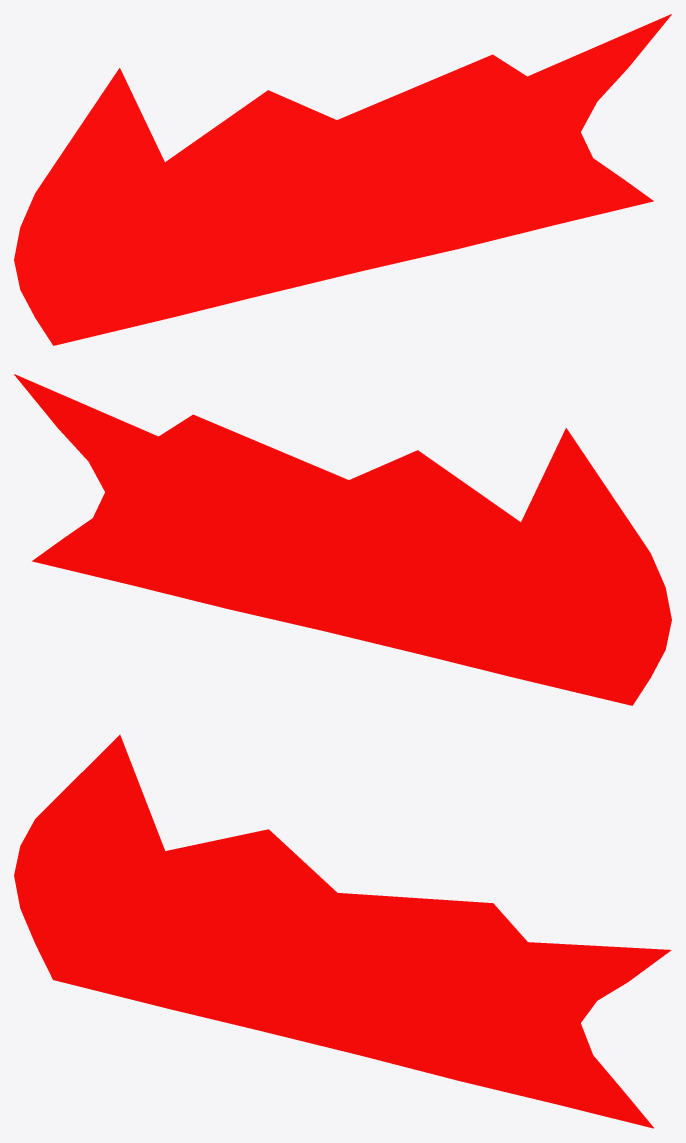
File: bldwave.fbx
3 renders of one model, top to bottom at view 1: azimuth 30°, elevation 25°; view 2: azimuth 150°, elevation 25°; view 3: azimuth 330°, elevation 25°, orthographic.
Visible parts, largest first — view 1: Plane; view 2: Plane; view 3: Plane.
Boxes of the visible parts, box(x1,y1,x2,y2) form: Plane: box(14, 14, 671, 345); Plane: box(14, 374, 671, 705); Plane: box(14, 734, 671, 1128).
Size of the model in its own units: 441 by 169 by 0.75.
